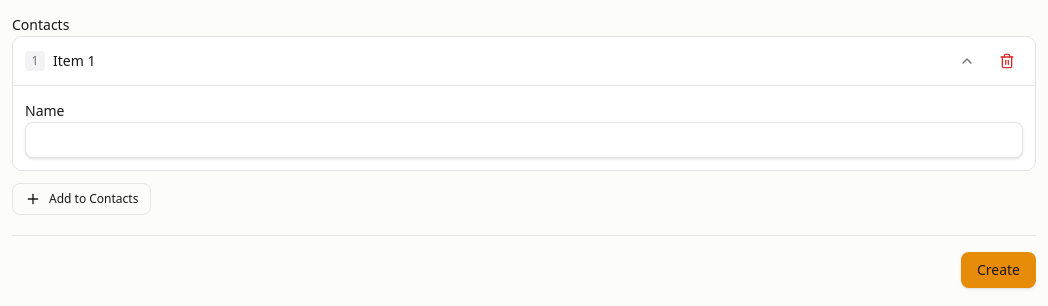
built-in action modifiers › renames the collapse button and keeps aria-expanded
Click the button named "Fold" at coordinates (967, 61), box [951,45,983,77]
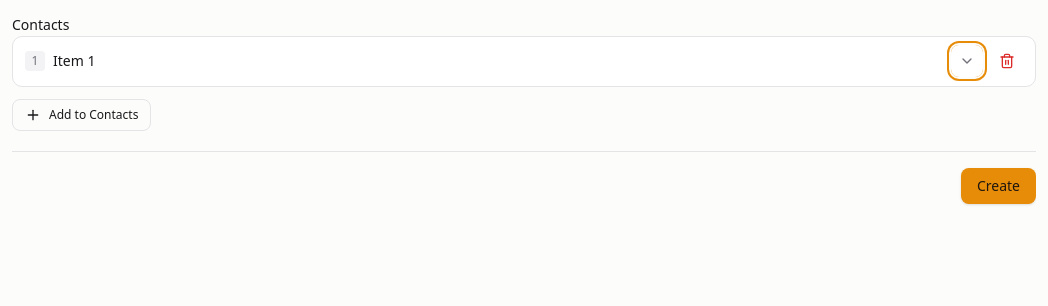
Check: the button named "Fold" is collapsed, box [951,45,983,77]
